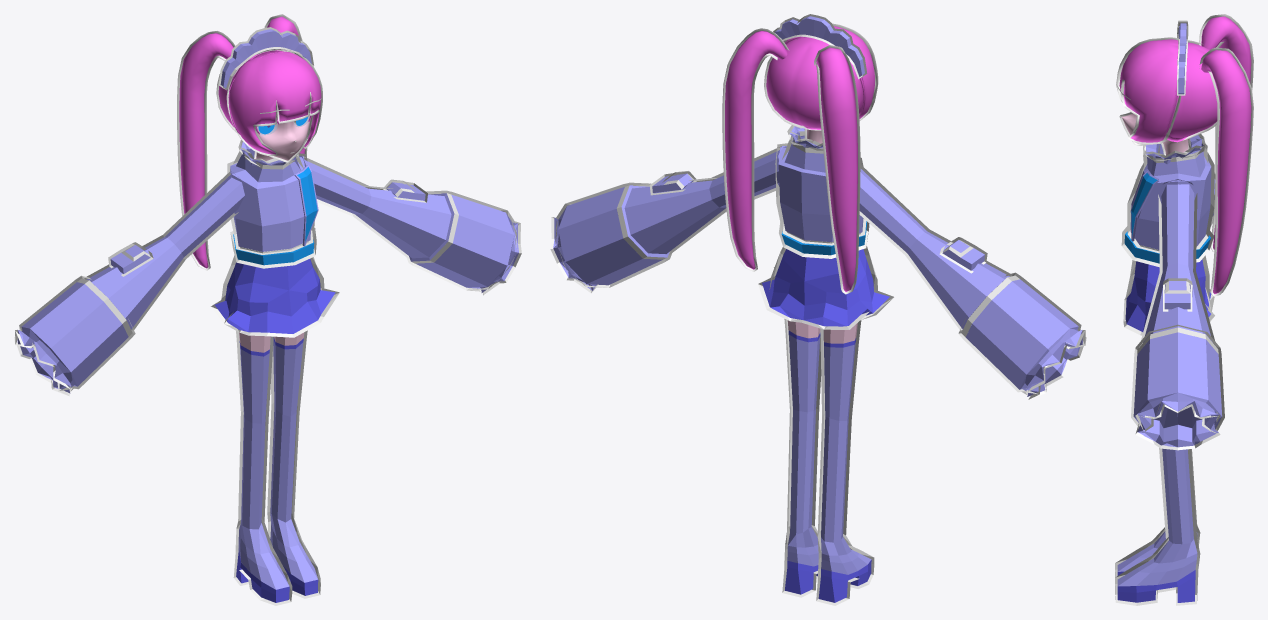
The model's file is meme_low.glb.
3 views of the same model, side by side, from view 1: azimuth 30°, elevation 25°; view 2: azimuth 150°, elevation 25°; view 3: azimuth 270°, elevation 25° (orthographic). The views are drawn at different scales.
Parts seen in each view (by area): view 1: arms, legs, bottoms, hair_front, tops, hair_twin, headband, face, tops_hem, tops_deco; view 2: arms, legs, hair_twin, bottoms, tops, hair_back, headband, hair_front, tops_hem; view 3: arms, hair_twin, legs, hair_front, tops, hair_back, bottoms, tops_hem, headband, tops_deco, face.
Boxes of the visible parts, x1,y1,x2,y2 form: arms: (14,155,521,396); legs: (233,330,320,605); bottoms: (211,255,339,337); hair_front: (226,49,322,155); tops: (227,140,314,254); hair_twin: (177,14,307,270); headband: (218,27,313,90); face: (254,114,313,162); tops_hem: (230,228,316,268); tops_deco: (294,165,318,246); arms: (550,145,1086,399); legs: (782,319,874,605); hair_twin: (722,28,860,294); bottoms: (758,246,893,329); tops: (775,125,866,245); hair_back: (764,37,865,130); headband: (769,14,867,79); hair_front: (783,23,878,120); tops_hem: (779,221,869,258); arms: (1131,172,1224,450); hair_twin: (1199,14,1253,296); legs: (1115,447,1200,605); hair_front: (1116,37,1181,144); tops: (1127,134,1214,253); hair_back: (1165,40,1217,142); bottoms: (1123,255,1214,335); tops_hem: (1121,226,1214,267); headband: (1177,20,1188,95); tops_deco: (1130,171,1160,241); face: (1119,112,1191,155).
Bounding box in the file's own units: 27.26 × 28.93 × 6.43.
